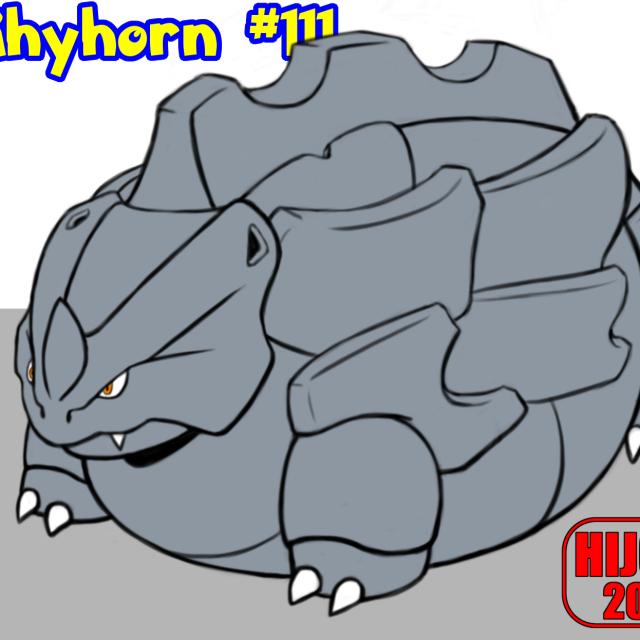Rhyhorn: (7, 38, 622, 612)
